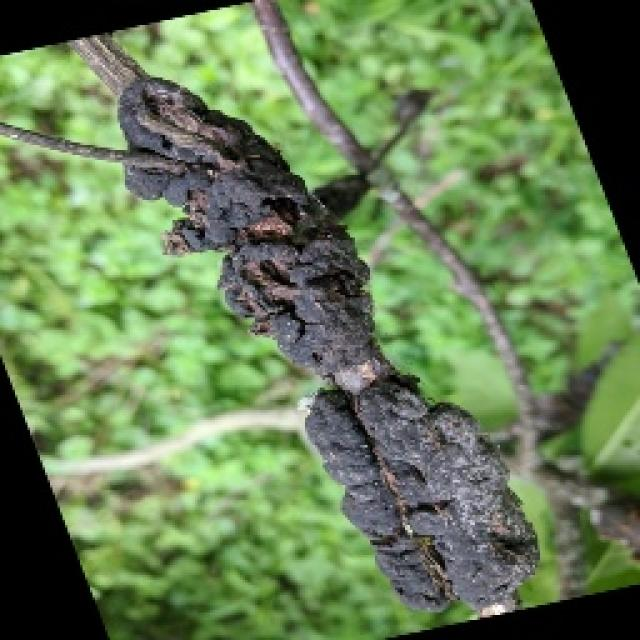Black_knot: (110, 70, 540, 615)
